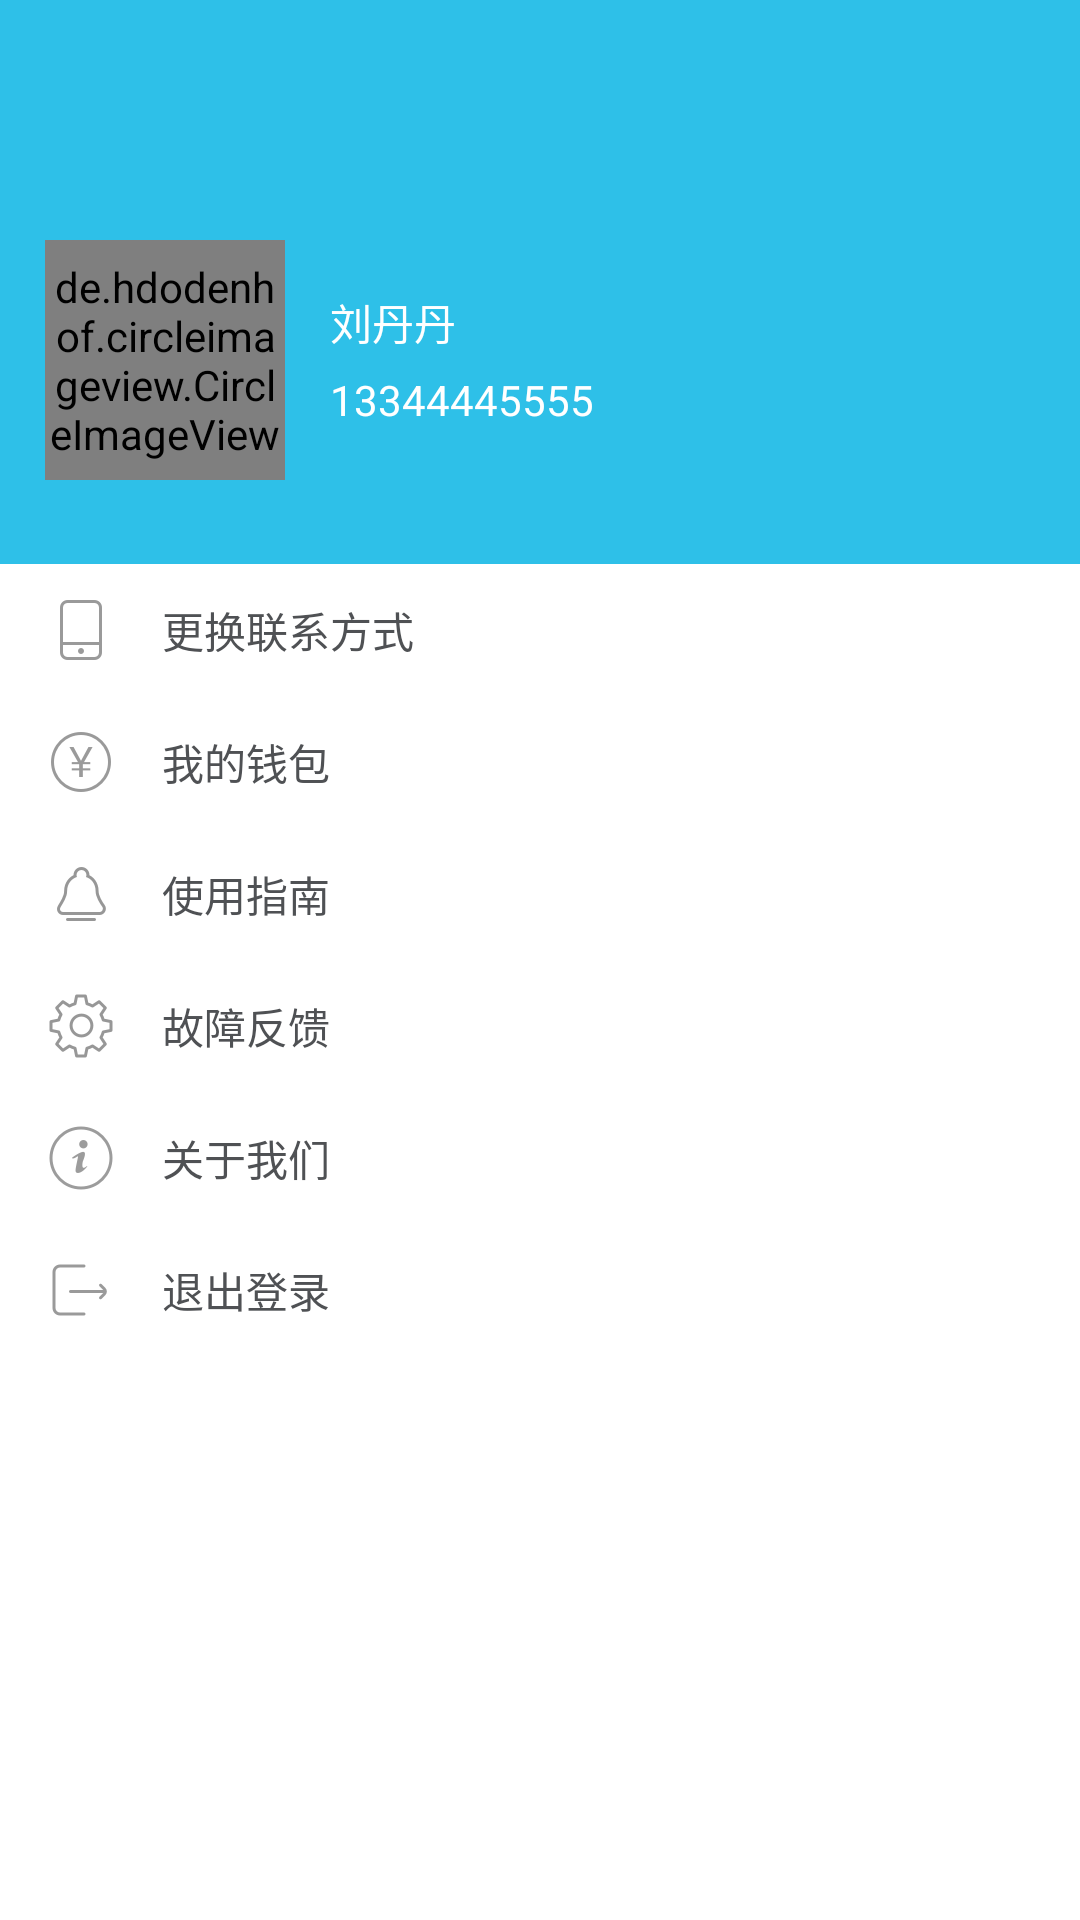

Screen size 1080px x 1920px. Icon name, then its box in pixels as Rect(x1, y1, x2, y2):
iphone: Rect(60, 600, 102, 660)
sideslip about: Rect(49, 1126, 113, 1190)
sideslip balance: Rect(51, 732, 111, 792)
sideslip news: Rect(57, 867, 106, 921)
sideslip set: Rect(49, 994, 113, 1058)
sign out: Rect(52, 1264, 107, 1316)
